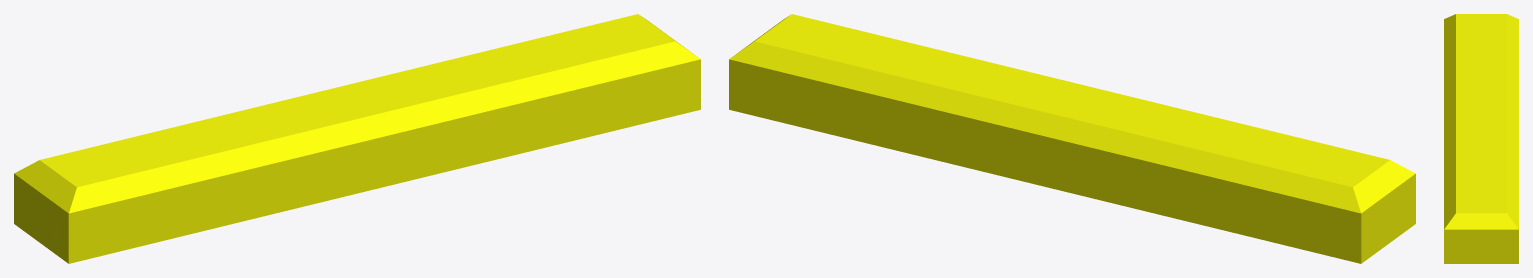
Rendered from Path_module.fbx.
3 views of the same model, side by side, from view 1: azimuth 30°, elevation 25°; view 2: azimuth 150°, elevation 25°; view 3: azimuth 270°, elevation 25° (orthographic). The views are drawn at different scales.
Visible parts, largest first — view 1: Path_module; view 2: Path_module; view 3: Path_module.
Part boxes in pixels (x1=…): Path_module: x1=14, y1=14, x2=700, y2=263; Path_module: x1=729, y1=14, x2=1415, y2=263; Path_module: x1=1444, y1=14, x2=1518, y2=263.
Bounding box in the file's own units: 100 × 10 × 15.
